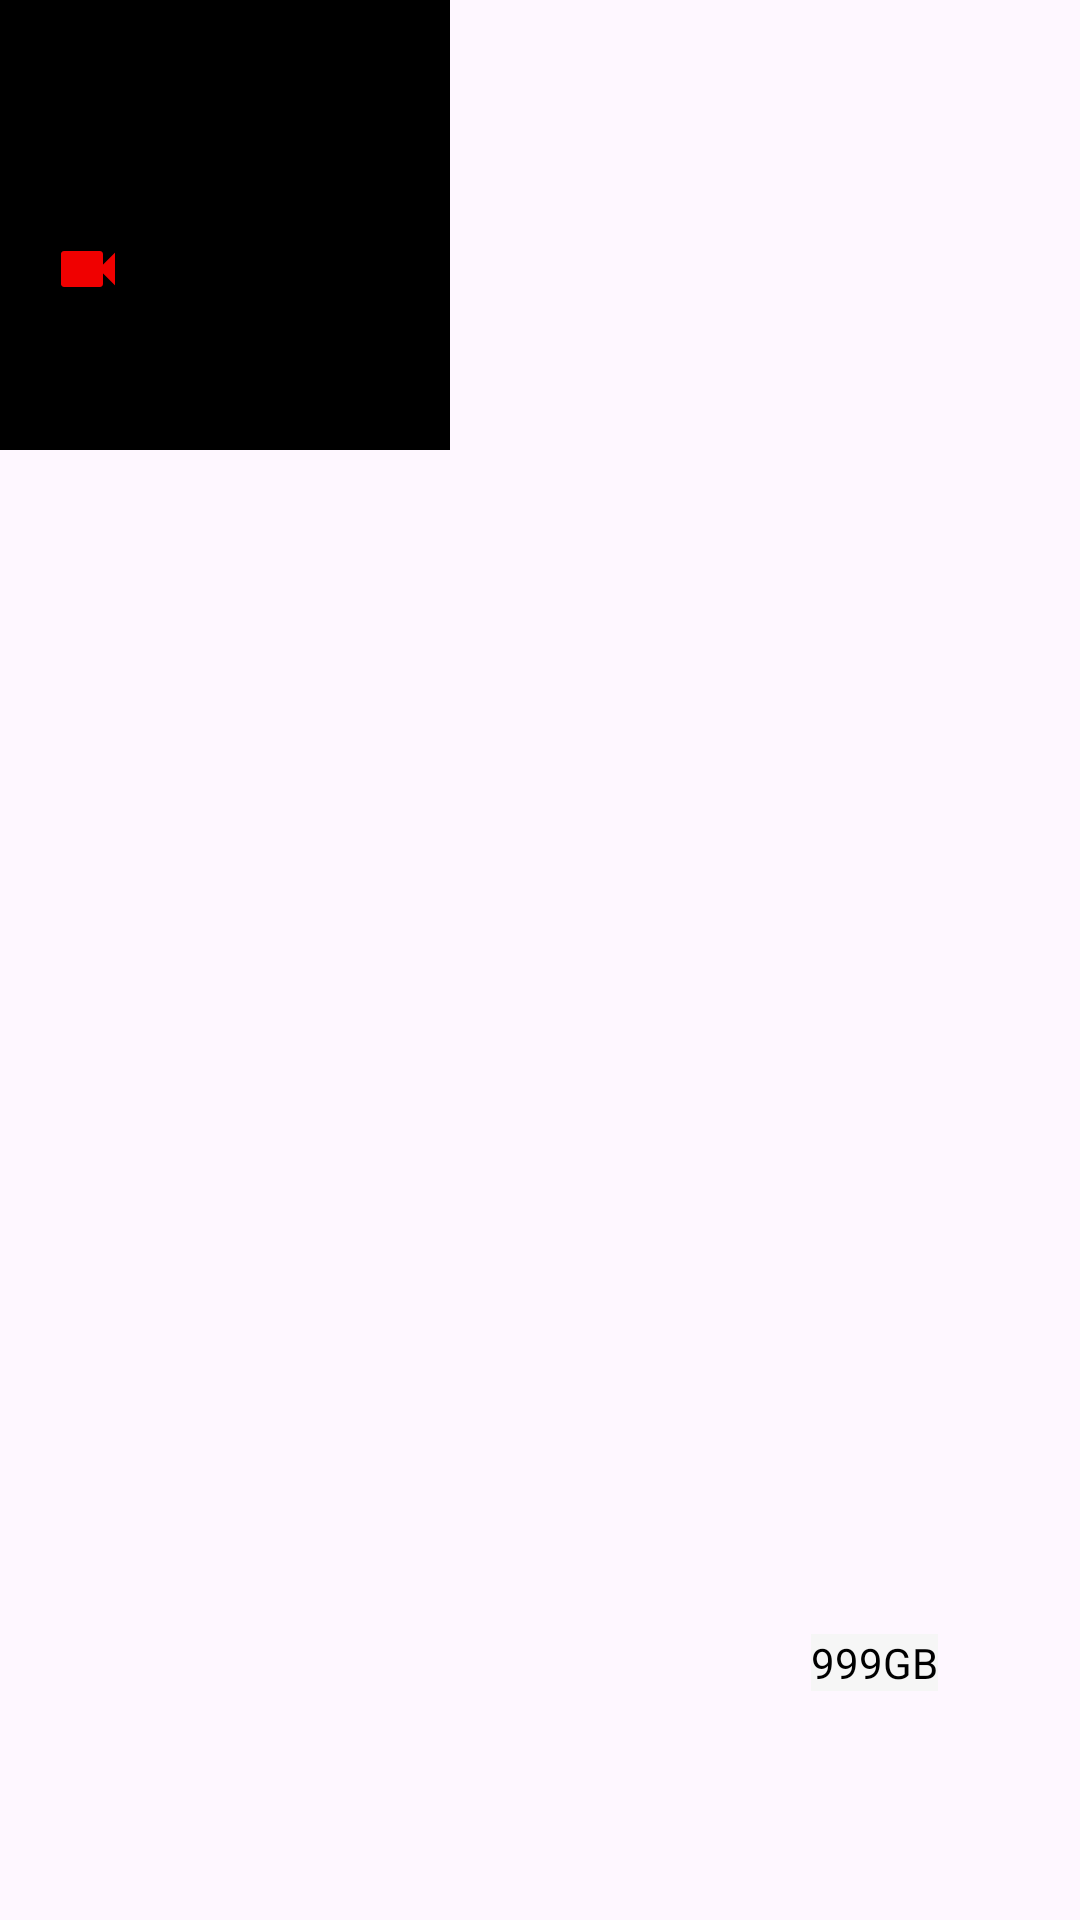

Icon click points for this 1080*1920 phone screenshot, format (x=x, y=y):
videocam: (x=88, y=269)
